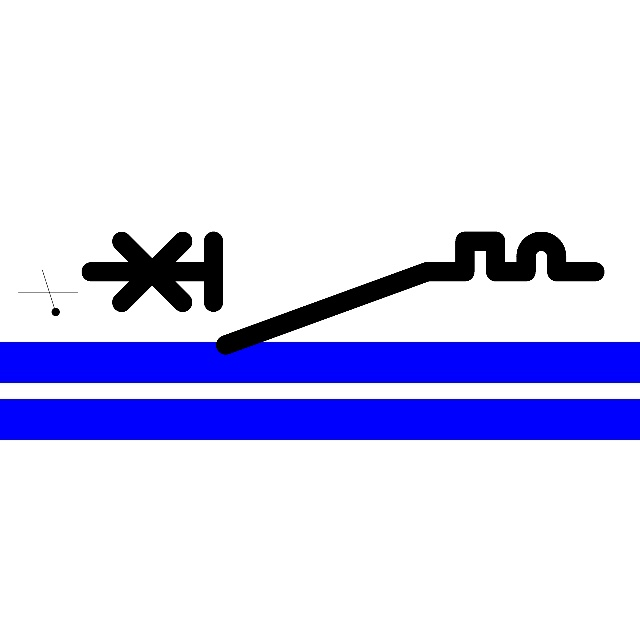interruptor_termomagnetico: (77, 228, 607, 357)
